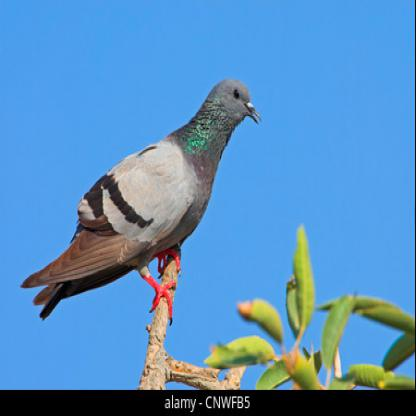Flying Rat: (32, 76, 264, 328)
